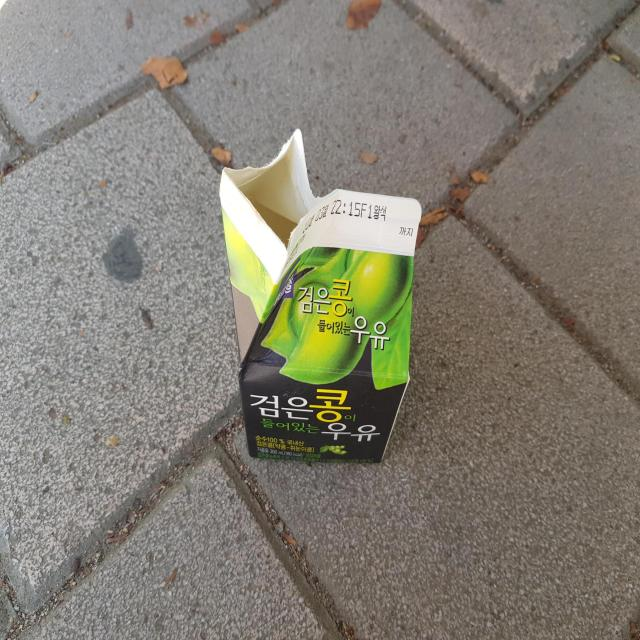paperpack: (219, 128, 422, 463)
